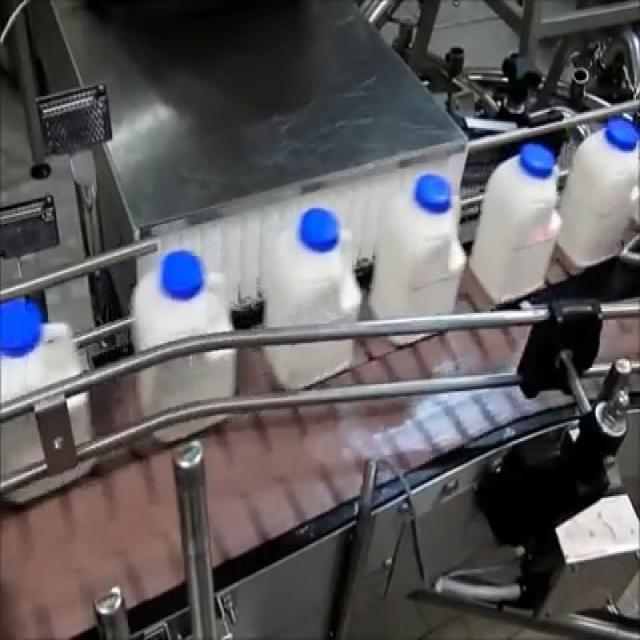milk: (121, 246, 248, 438), (0, 291, 106, 483), (264, 204, 358, 390), (381, 166, 463, 346), (481, 148, 551, 300), (571, 117, 640, 265)
